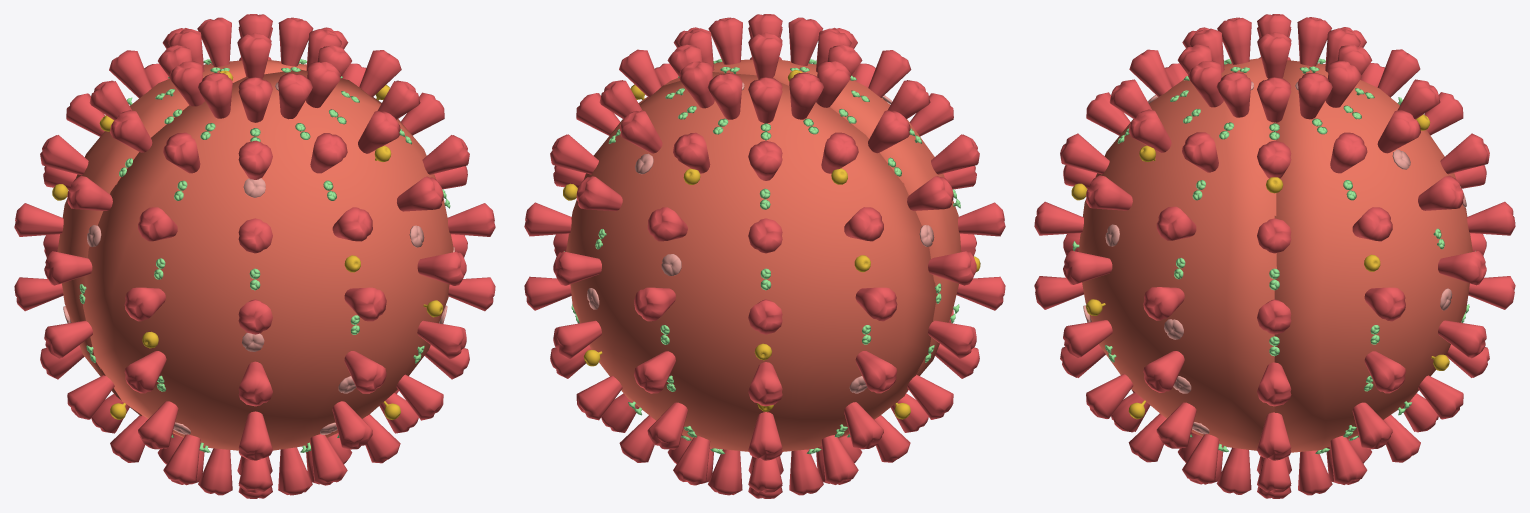
The model's file is Virus_Embeded.gltf.
3 views of the same model, side by side, from view 1: azimuth 30°, elevation 25°; view 2: azimuth 150°, elevation 25°; view 3: azimuth 270°, elevation 25° (orthographic).
Parts seen in each view (by area): view 1: EnvelopeLeft, SpikeGlycoprotein, EnvelopeRight, M_Protein, E_Protein, Hemagglutinin_esterase_Dimer.017; view 2: EnvelopeRight, SpikeGlycoprotein, EnvelopeLeft, M_Protein, E_Protein, Hemagglutinin_esterase_Dimer.017; view 3: SpikeGlycoprotein, EnvelopeRight, EnvelopeLeft, M_Protein, E_Protein, Hemagglutinin_esterase_Dimer.017.
Boxes of the visible parts, box(x1,y1,x2,y2) form: EnvelopeLeft: box(83, 69, 453, 450); SpikeGlycoprotein: box(14, 14, 495, 498); EnvelopeRight: box(57, 60, 359, 415); M_Protein: box(79, 59, 450, 452); E_Protein: box(52, 70, 443, 419); Hemagglutinin_esterase_Dimer.017: box(63, 82, 454, 434); EnvelopeRight: box(566, 72, 936, 451); SpikeGlycoprotein: box(524, 14, 1005, 498); EnvelopeLeft: box(638, 59, 961, 404); M_Protein: box(564, 59, 960, 454); E_Protein: box(563, 70, 980, 419); Hemagglutinin_esterase_Dimer.017: box(587, 82, 934, 393); SpikeGlycoprotein: box(1034, 14, 1515, 498); EnvelopeRight: box(1274, 60, 1472, 452); EnvelopeLeft: box(1078, 58, 1276, 450); M_Protein: box(1072, 58, 1475, 454); E_Protein: box(1071, 114, 1449, 419); Hemagglutinin_esterase_Dimer.017: box(1083, 81, 1466, 434).
Bounding box in the file's own units: 2.42 × 2.44 × 2.42.
